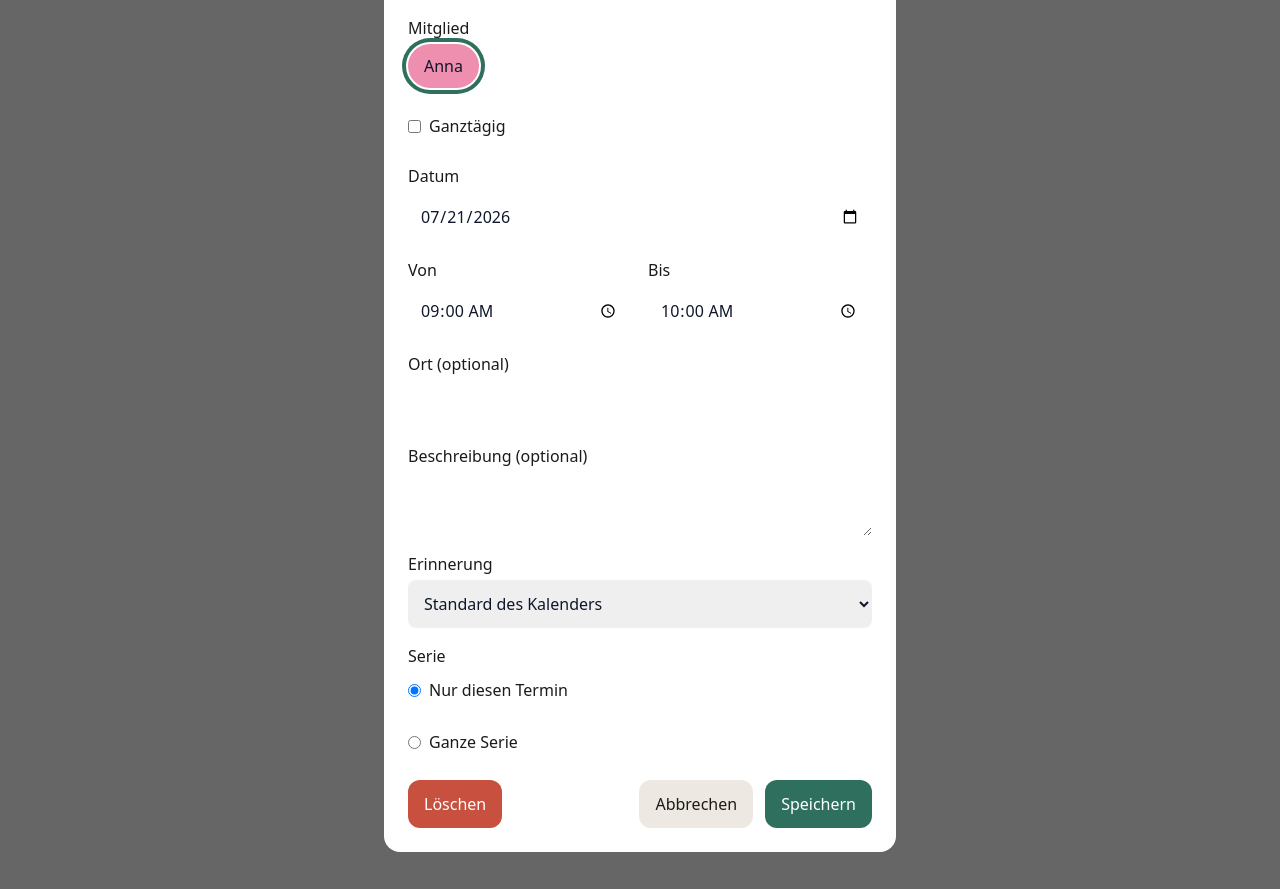
Test case: EventDialog (edit + delete) › switches back to "Nur diesen Termin" after choosing "Ganze Serie"
The image size is (1280, 889).
(page scrolled)
Step 1. Click the radio button labelled "Ganze Serie" → [414, 742], box [408,736,421,748]
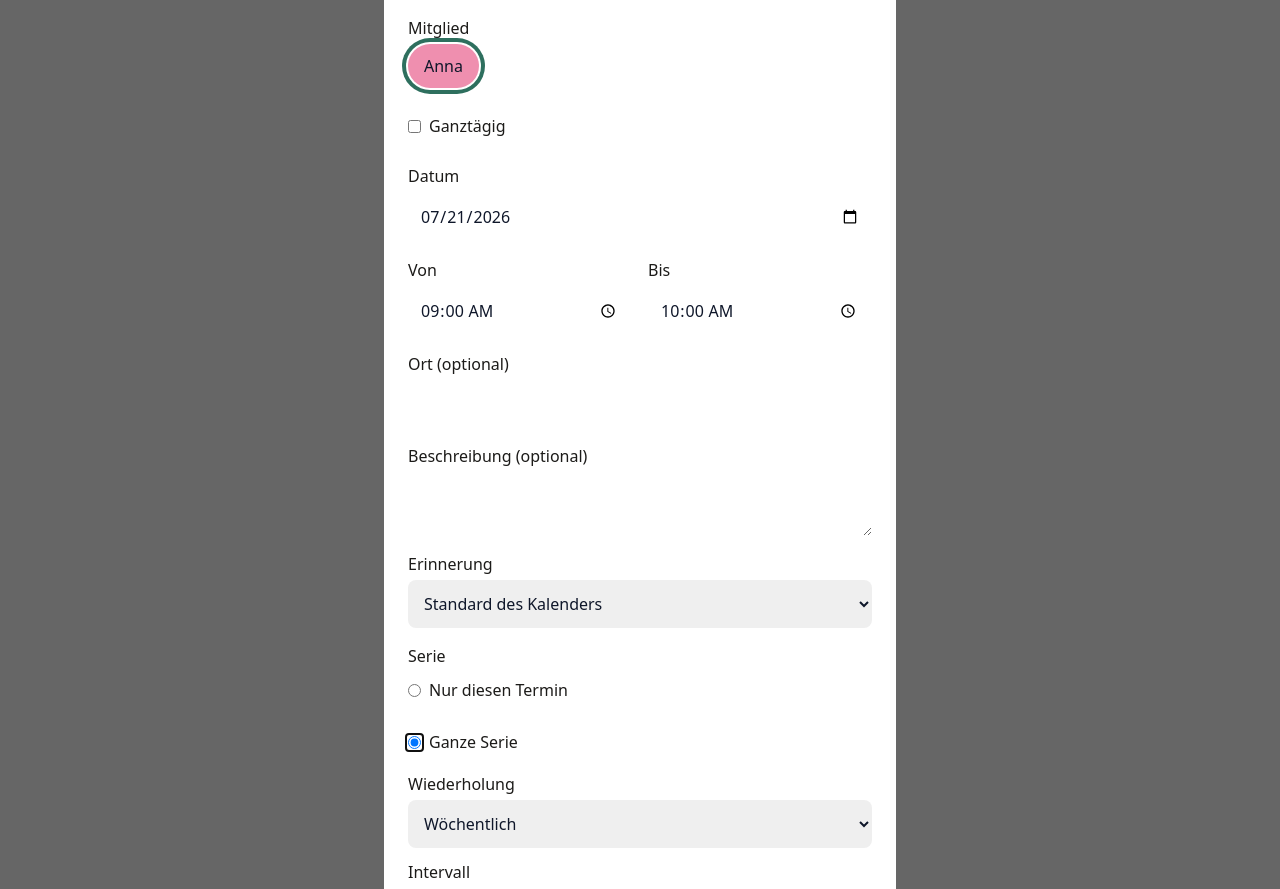
Step 2. Click the radio button labelled "Nur diesen Termin" → [414, 690], box [408,684,421,696]
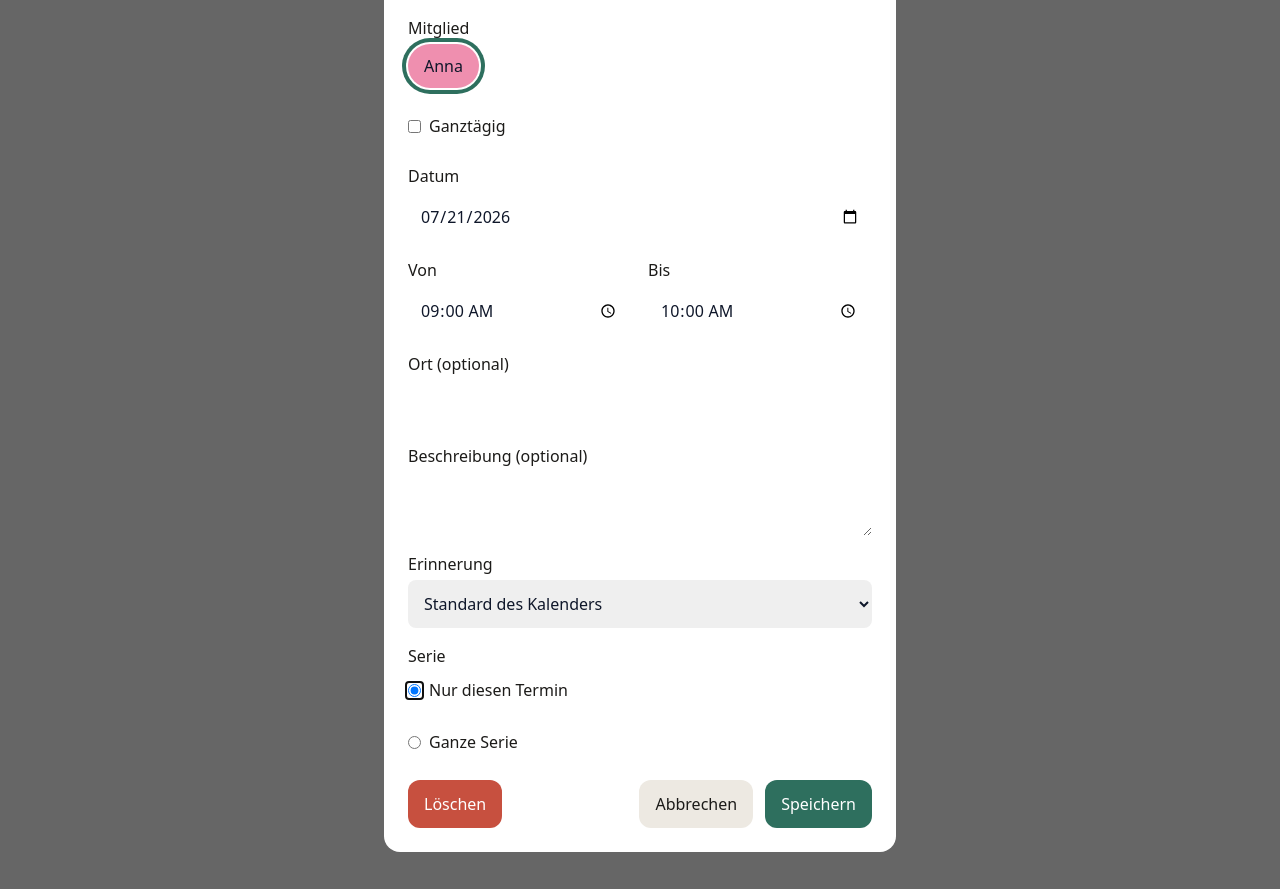
Check: the radio button labelled "Nur diesen Termin" is checked, box [408,684,421,696]
Check: the label labelled "Wiederholung" is gone
